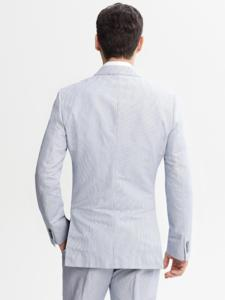F_M_suit jacket: (30, 66, 196, 267)
